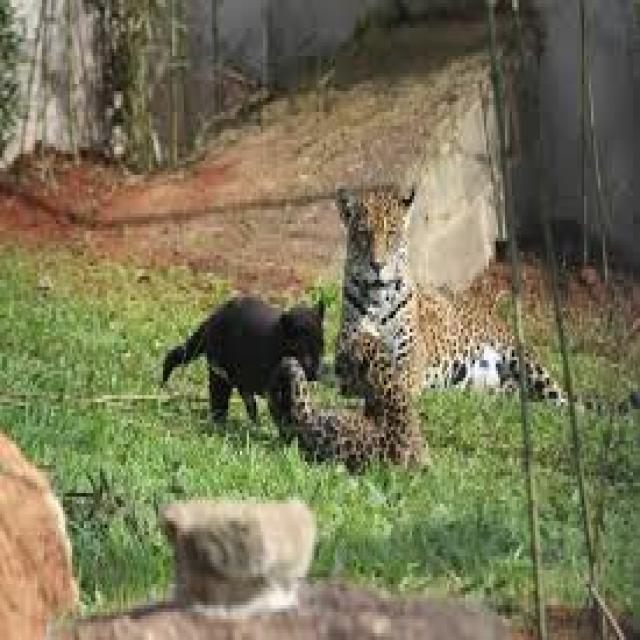Jaguar: (335, 185, 640, 420)
